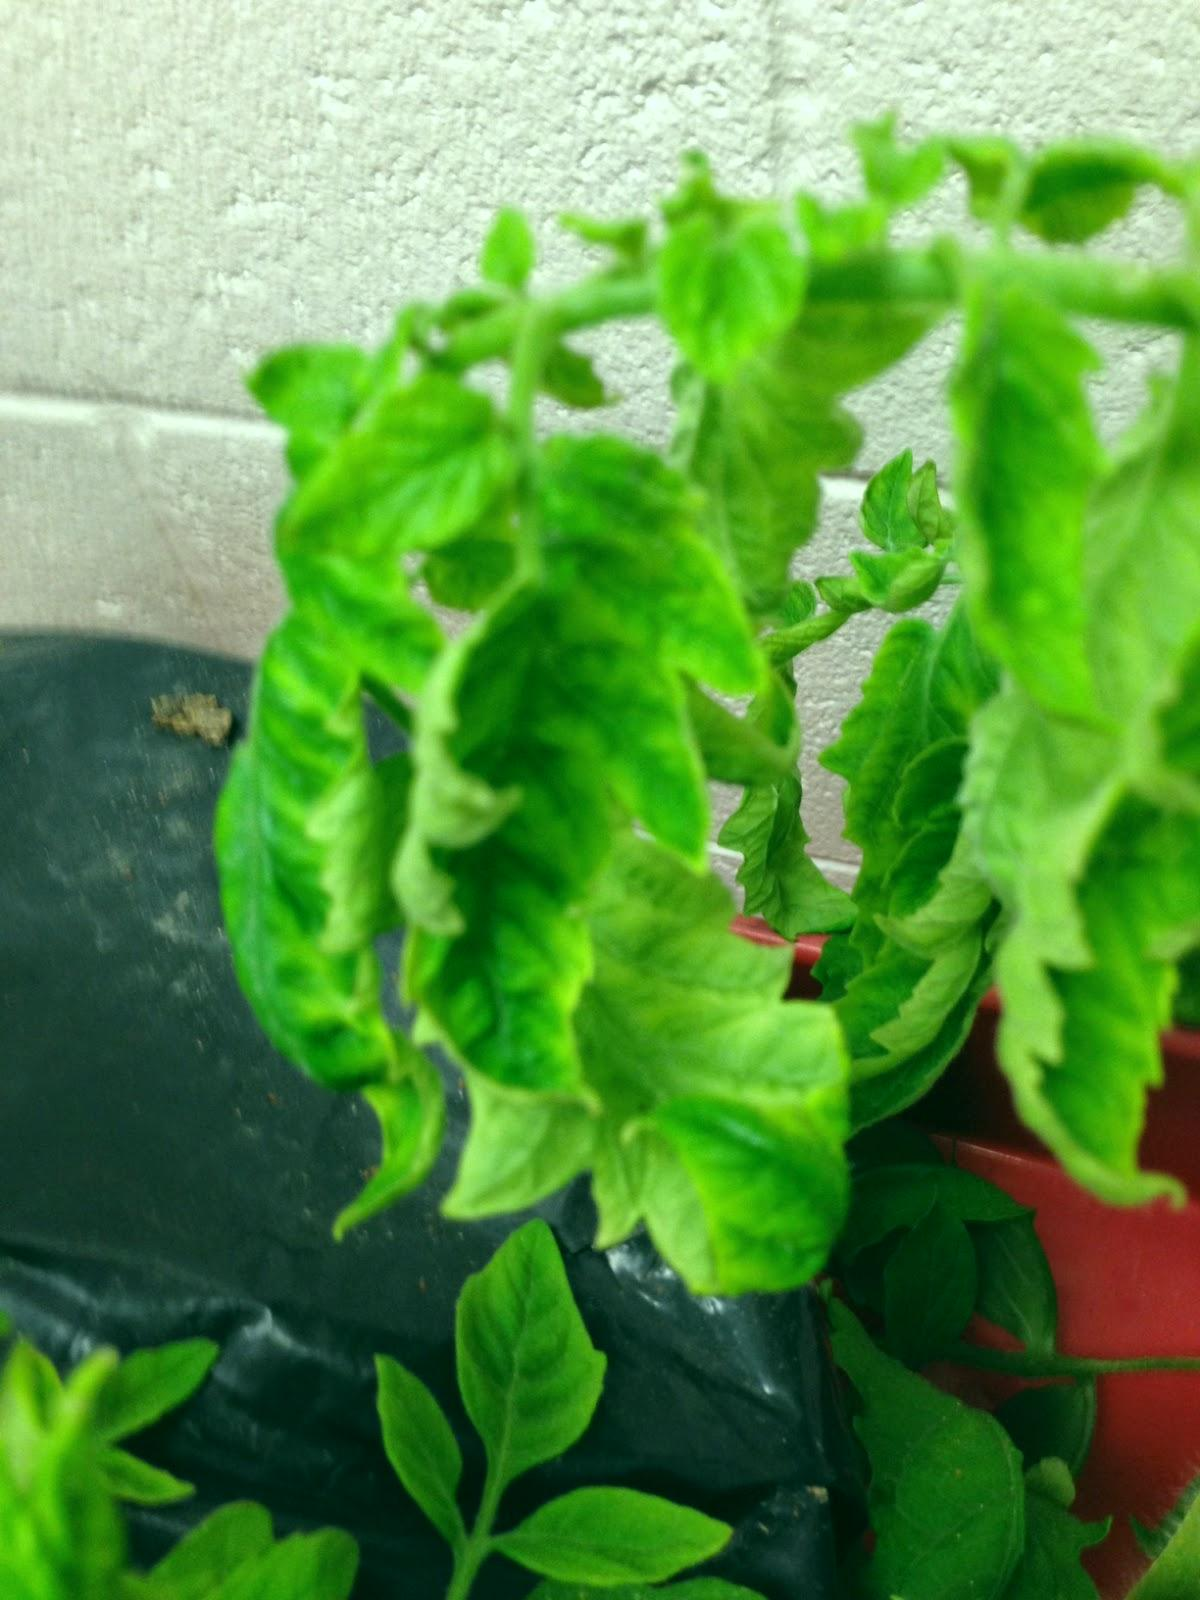Tomato leaf yellow virus: (381, 380, 724, 1141), (136, 197, 396, 1107), (913, 233, 1111, 745), (442, 1227, 600, 1495)
